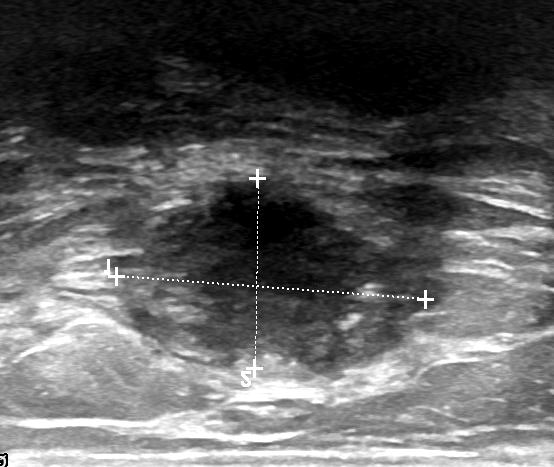Malignant: (136, 173, 406, 367)
